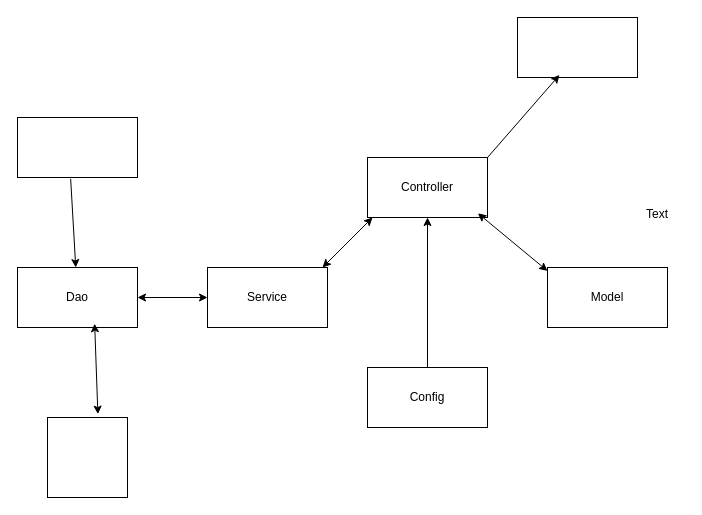
This 702x515 diagram has some shape labels left out. The centre of each missing label's shape, as x and y in pixels:
Database: the point at 87,457
Entity: the point at 77,147
View: the point at 577,47
